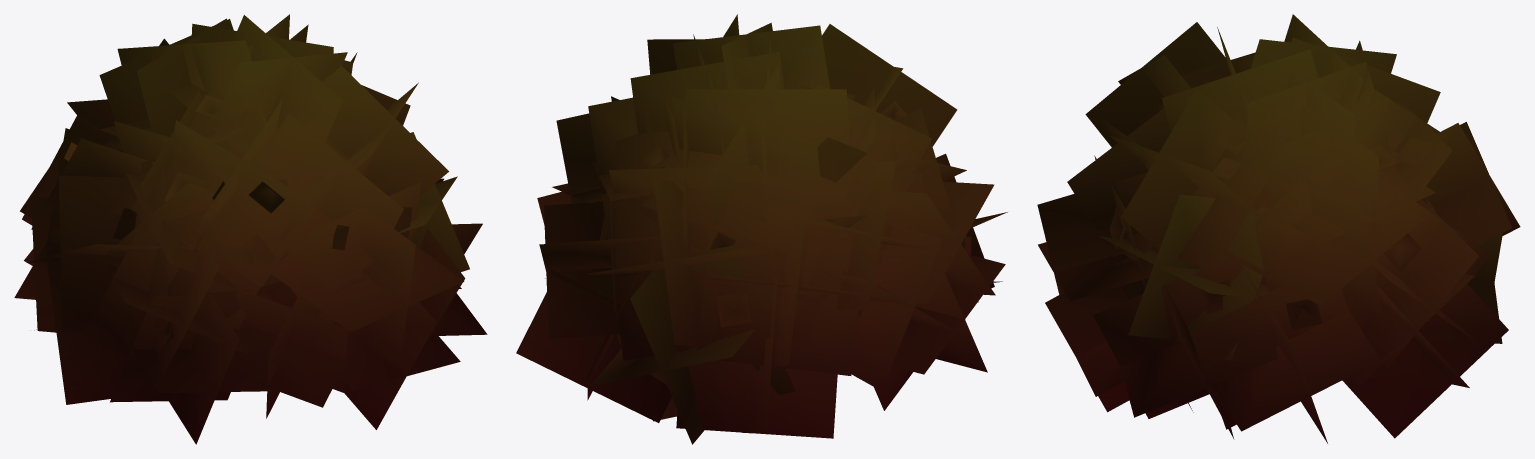
Rendered from TEM_Flower_Bush_02A.fbx.
3 renders of one model, left to right at view 1: azimuth 30°, elevation 25°; view 2: azimuth 150°, elevation 25°; view 3: azimuth 270°, elevation 25°, orthographic.
Visible parts, largest first — view 1: TEM_Flower_Bush_02A_LOD0; view 2: TEM_Flower_Bush_02A_LOD0; view 3: TEM_Flower_Bush_02A_LOD0.
Part boxes in pixels (bbox=[...]): TEM_Flower_Bush_02A_LOD0: bbox=[14, 14, 487, 444]; TEM_Flower_Bush_02A_LOD0: bbox=[516, 14, 1007, 444]; TEM_Flower_Bush_02A_LOD0: bbox=[1037, 14, 1520, 443].
Bounding box in the file's own units: 201 × 161 × 200.
